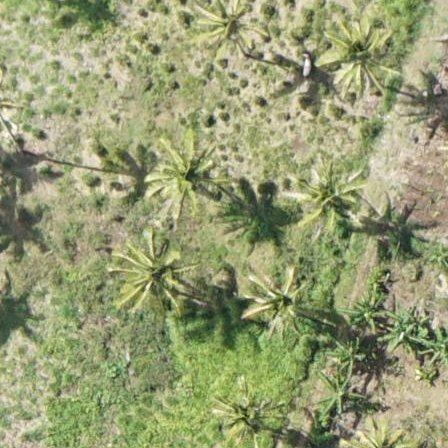palm_tree: (143, 124, 227, 213), (316, 5, 396, 91), (113, 228, 189, 309), (243, 261, 309, 332), (299, 160, 363, 230), (209, 383, 280, 442), (204, 1, 265, 51)
